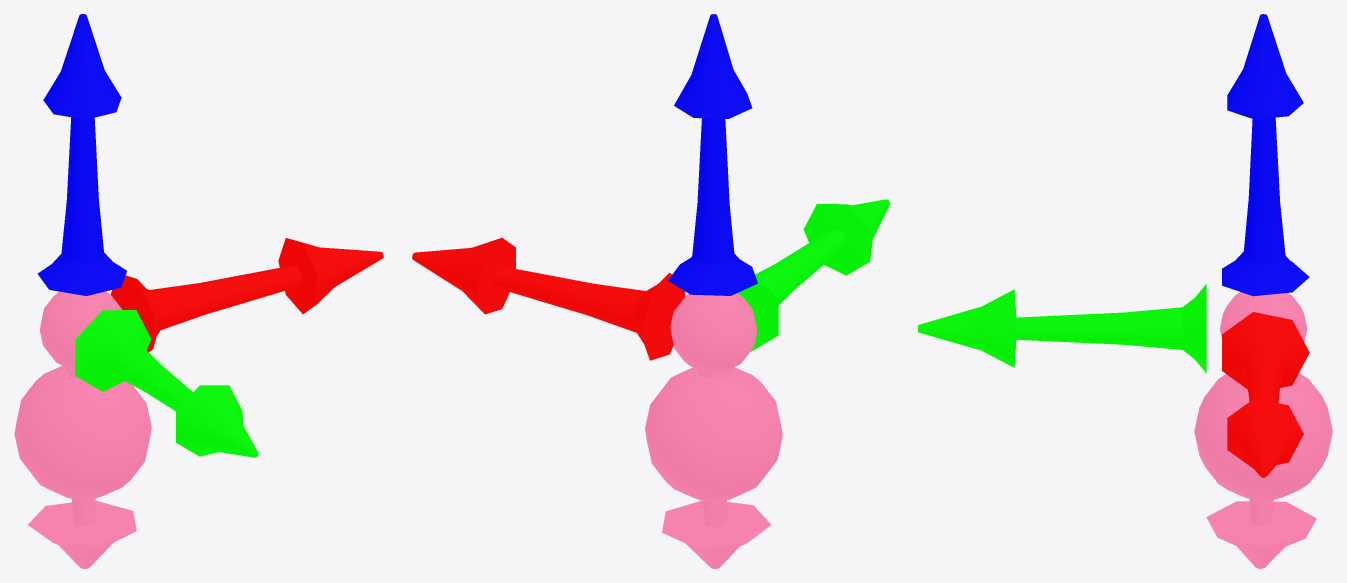
File: arrow_meshes.glb
3 views of the same model, side by side, from view 1: azimuth 30°, elevation 25°; view 2: azimuth 150°, elevation 25°; view 3: azimuth 270°, elevation 25° (orthographic).
Parts seen in each view (by area): view 1: ArrowScale, ArrowBlue-noimp, ArrowGreen-noimp, ArrowTranslate; view 2: ArrowScale, ArrowBlue-noimp, ArrowTranslate, ArrowGreen-noimp; view 3: ArrowScale, ArrowBlue-noimp, ArrowGreen-noimp, ArrowTranslate.
Part boxes in pixels (x1,y1,x2,y2): ArrowScale: [14, 291, 151, 568]; ArrowBlue-noimp: [37, 14, 126, 295]; ArrowGreen-noimp: [75, 310, 258, 457]; ArrowTranslate: [111, 238, 383, 352]; ArrowScale: [645, 293, 782, 568]; ArrowBlue-noimp: [668, 14, 757, 295]; ArrowTranslate: [412, 238, 685, 360]; ArrowGreen-noimp: [738, 199, 889, 351]; ArrowScale: [1194, 292, 1332, 568]; ArrowBlue-noimp: [1222, 14, 1309, 296]; ArrowGreen-noimp: [918, 284, 1206, 372]; ArrowTranslate: [1222, 312, 1309, 477].
Size of what is drawn, in the model's own units: 1.22 by 1.8 by 1.22.
